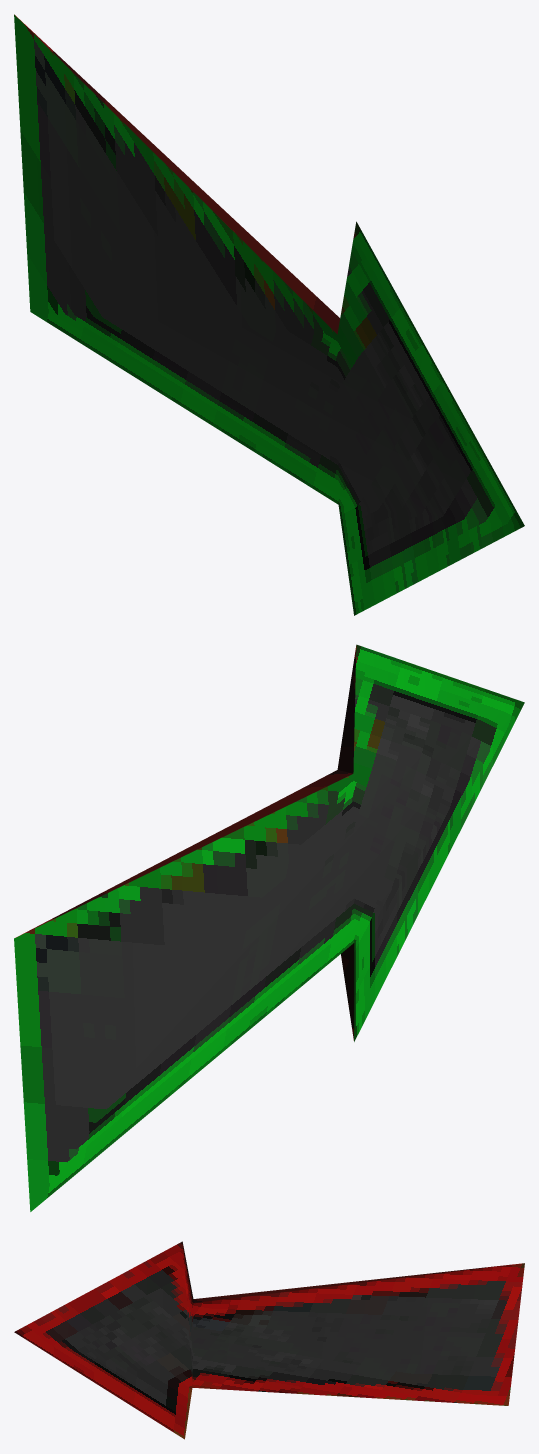
Rendered from ARROW.fbx.
The picture shows the model from 3 angles, top to bottom: view 1: azimuth 30°, elevation 25°; view 2: azimuth 150°, elevation 25°; view 3: azimuth 270°, elevation 25°; orthographic projection. The views are drawn at different scales.
Visible parts, largest first — view 1: ARROW; view 2: ARROW; view 3: ARROW.
Boxes of the visible parts, bbox=[...] form: ARROW: bbox=[14, 14, 524, 615]; ARROW: bbox=[14, 644, 524, 1211]; ARROW: bbox=[14, 1241, 524, 1439].
Size of the model in its own units: 184 by 4377 by 10226.
1 material, 1 textured.
